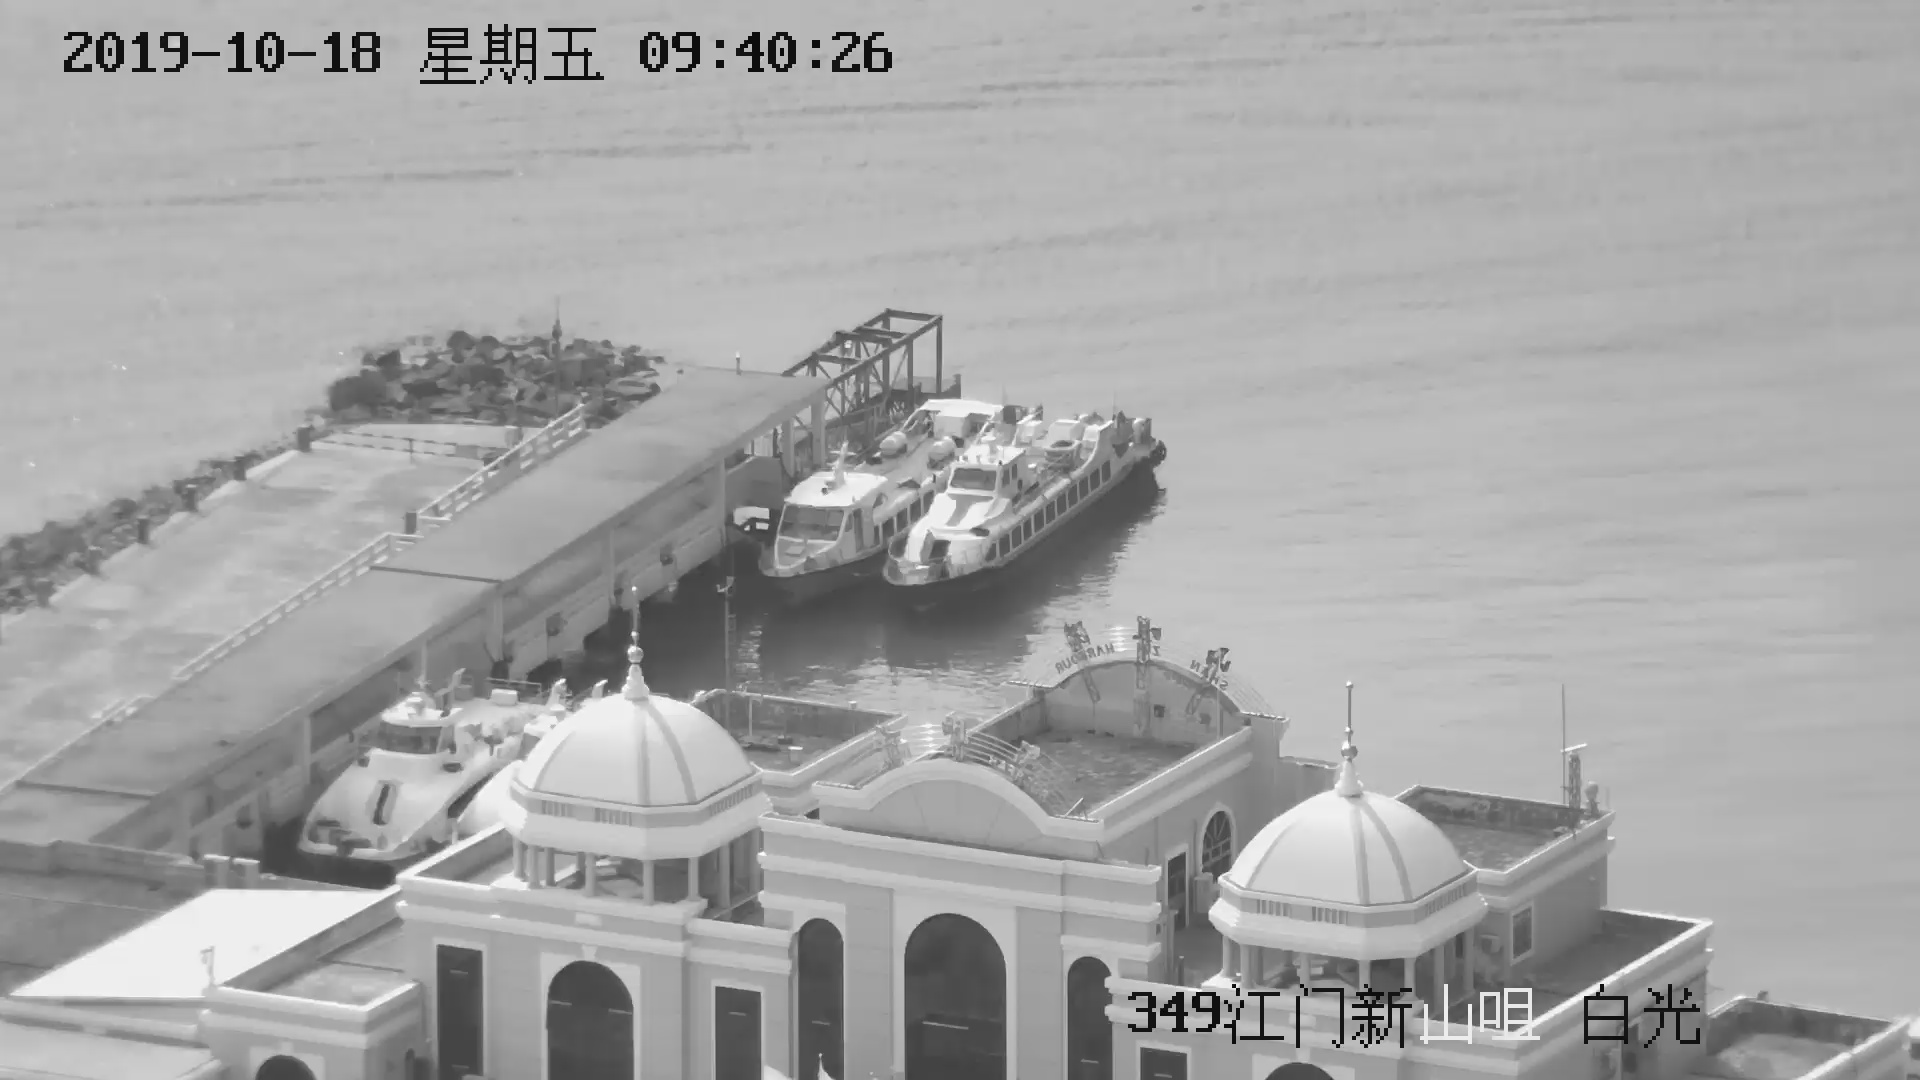ship: (885, 411, 1160, 612), (285, 688, 562, 882), (748, 448, 942, 601)
